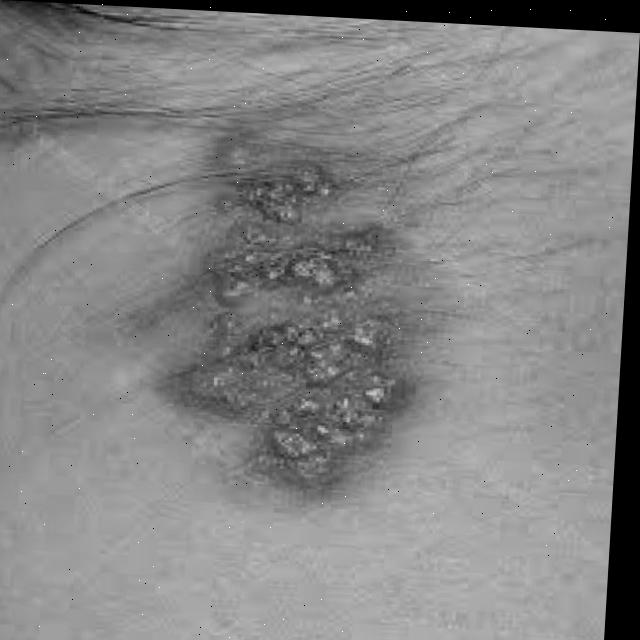Shingles: (198, 147, 385, 474)
